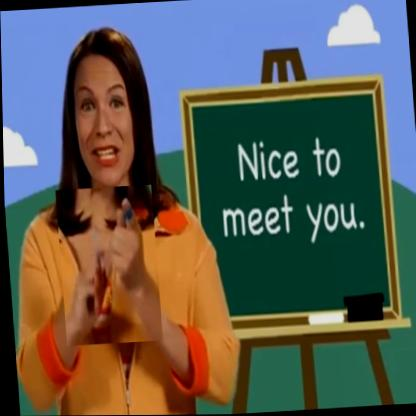NiceToMeetYou: (55, 184, 162, 346)
